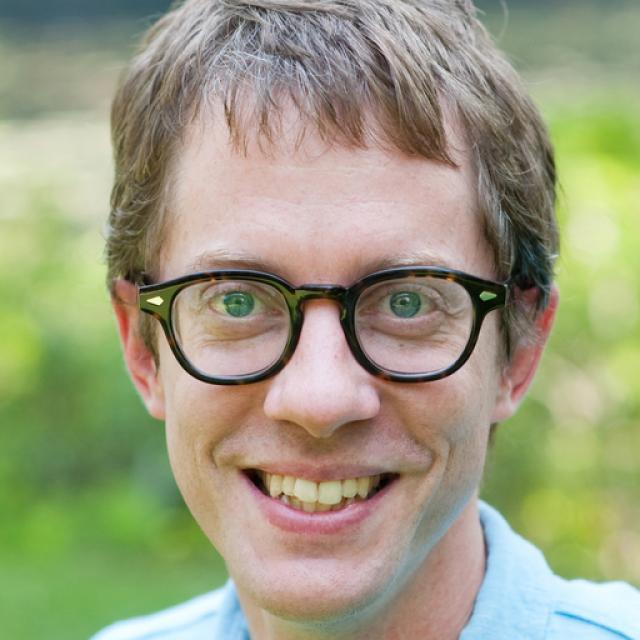happy: (161, 73, 495, 618)
